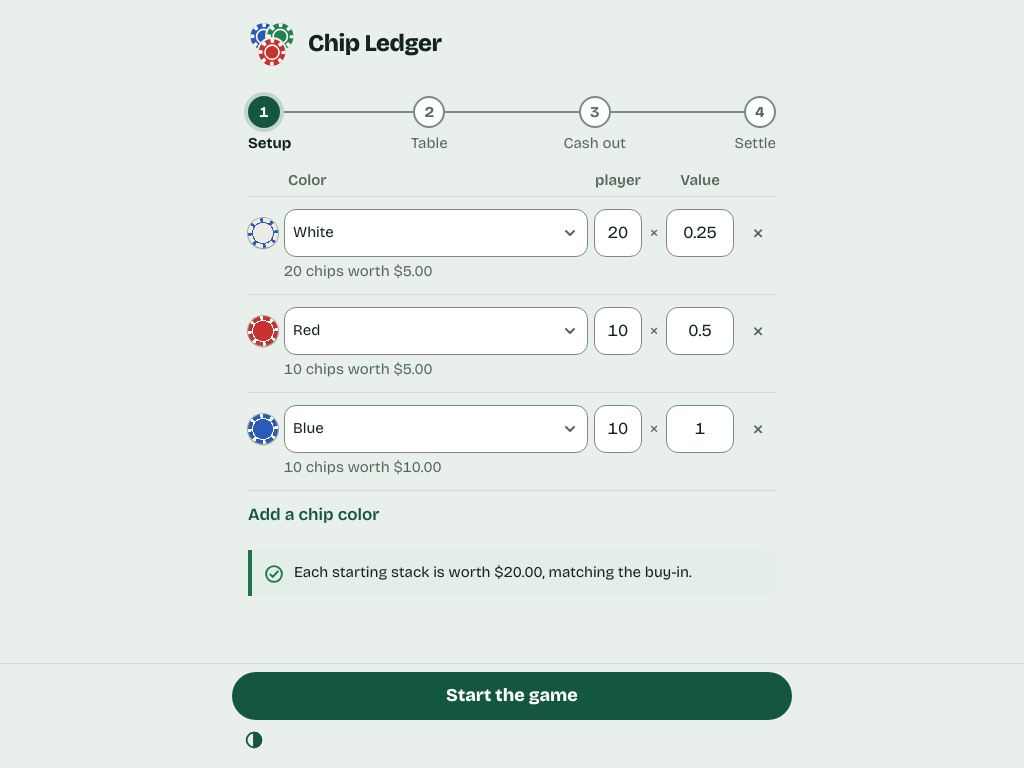
Test case: ChipLedgerApp › REQ-0001-05: adds a chip color with a new row
The image size is (1024, 768).
(page scrolled)
Click the button "Add a chip color".
click(314, 514)  # box x1=248 y1=490 x2=379 y2=538
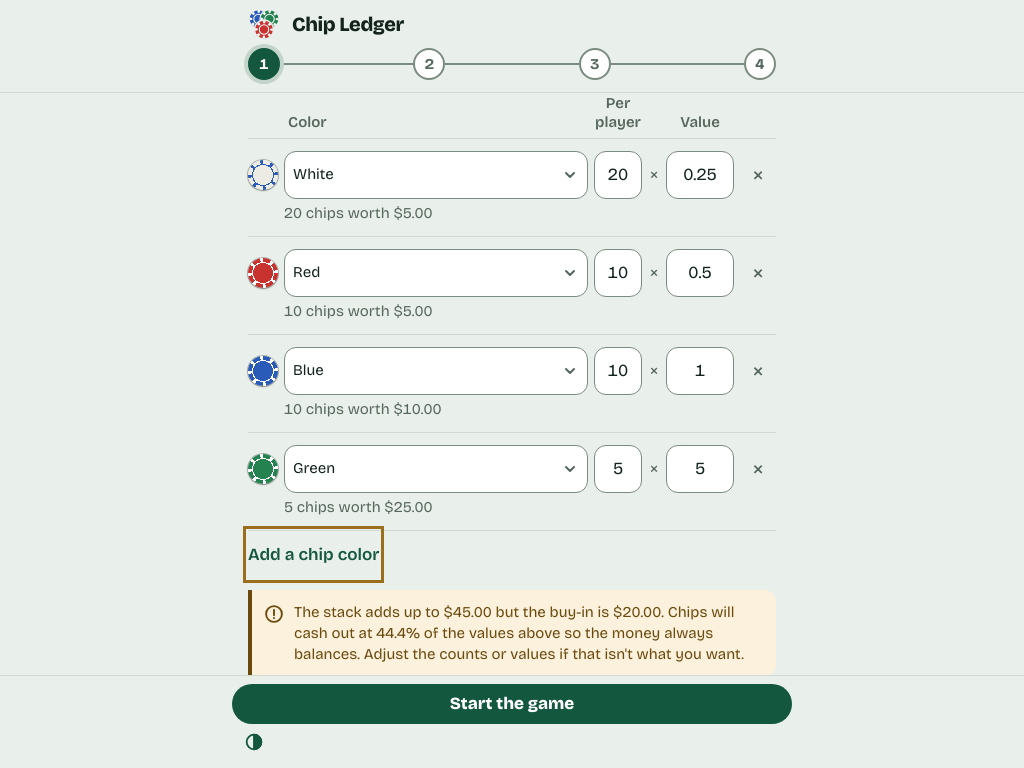
Result: the 7th field named "Green chips per player" holds "5" at x1=594 y1=445 x2=642 y2=493
